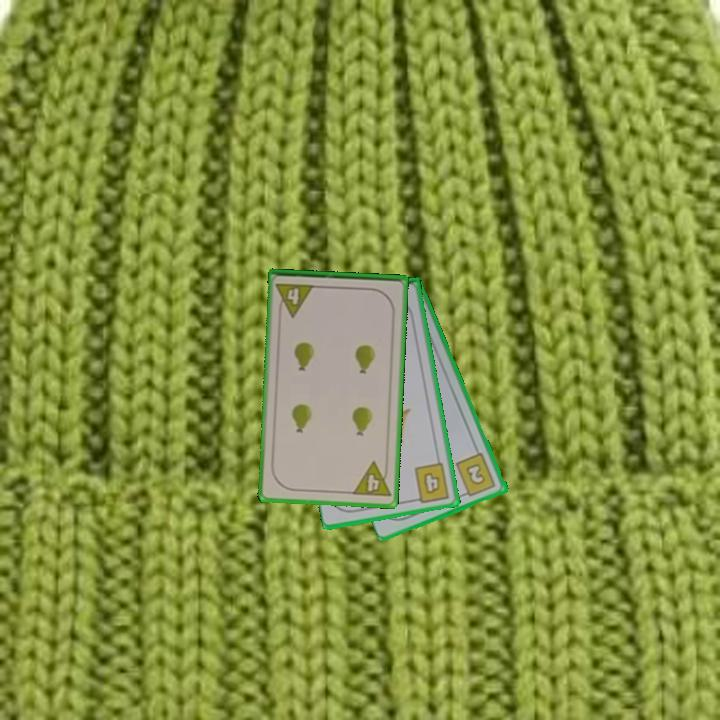2b: (452, 450, 499, 500)
4b: (410, 459, 452, 506)
4p: (349, 458, 393, 500), (273, 279, 317, 319)
